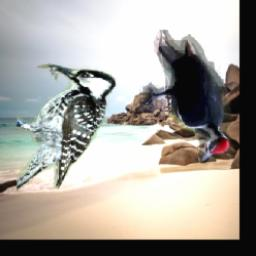Woodpecker: (17, 63, 118, 191), (138, 31, 230, 163)
